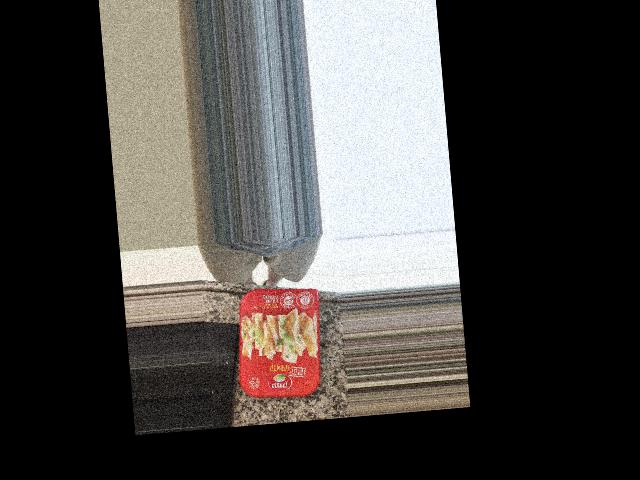cheese: (218, 263, 315, 380)
